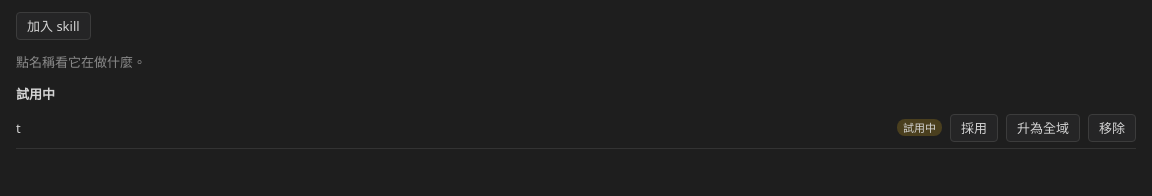
Test: SkillsView › shows the description when the name is clicked, and hides it again
expect the text "把輸入變成知識圖譜" is not shown: met
Click the button "t".
click(18, 128)  # box [16,119,889,137]
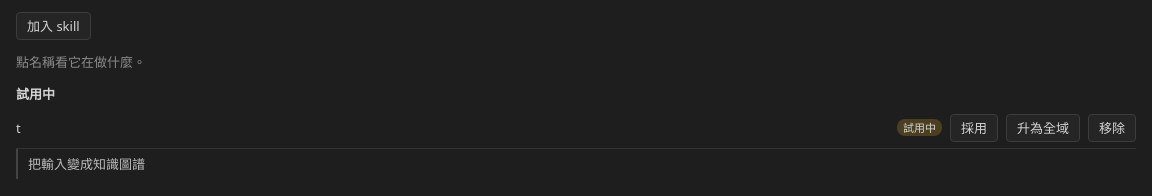
expect the text "把輸入變成知識圖譜" is shown: met, box [16,149,1136,179]
Click the button "t".
click(18, 128)  # box [16,119,889,137]
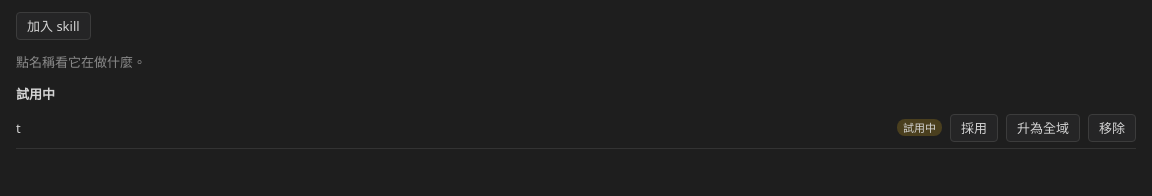
expect the text "把輸入變成知識圖譜" is gone: met
